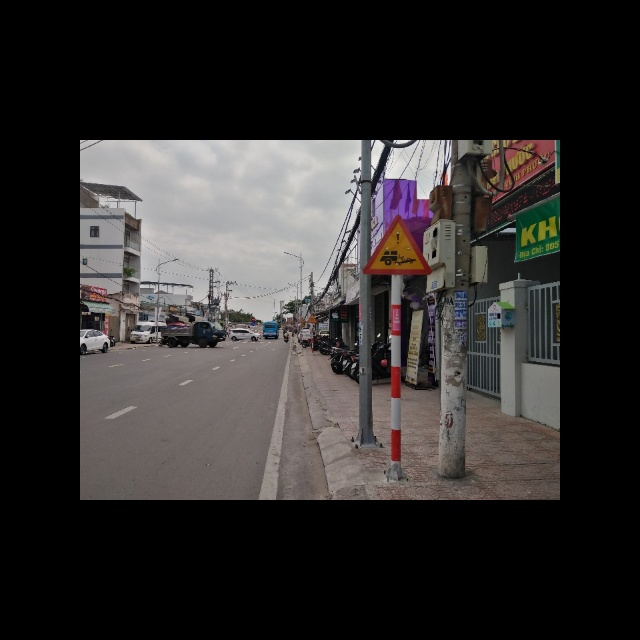Đoạn đường hay xảy ra tai nạn: (363, 210, 431, 276)
